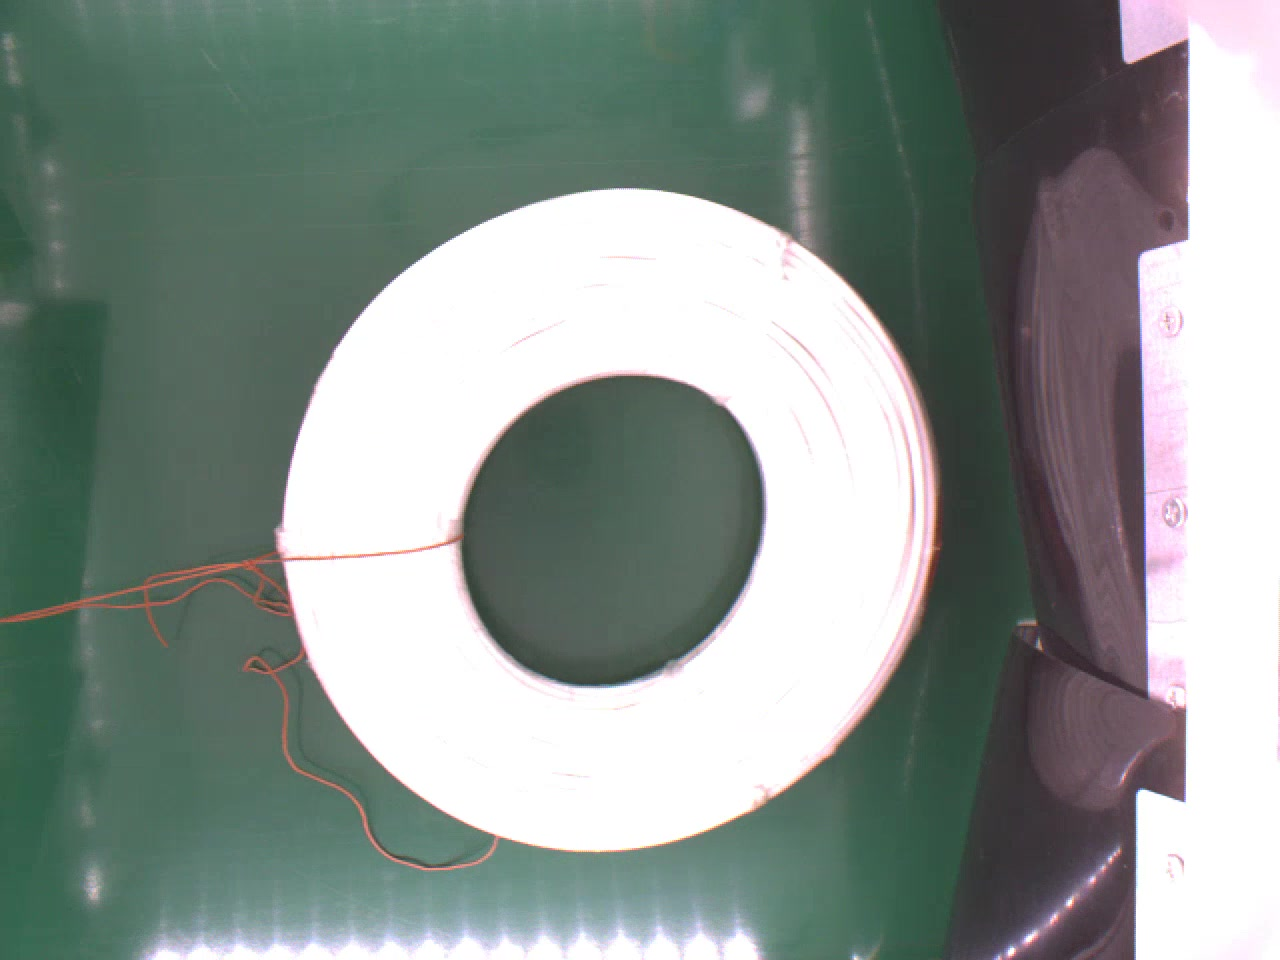white: (274, 178, 942, 859)
